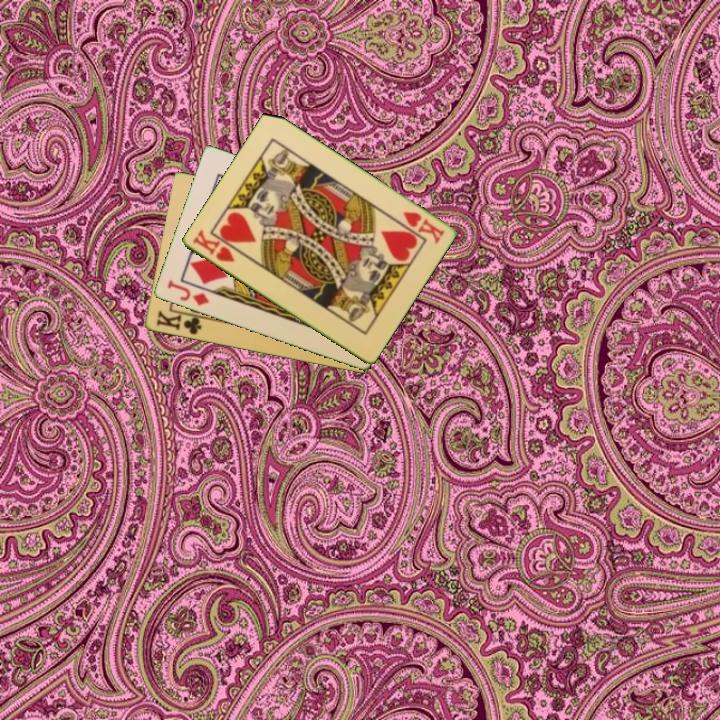Jd: (163, 276, 212, 309)
Kc: (152, 307, 208, 338)
Kh: (188, 226, 237, 265), (399, 208, 447, 247)
